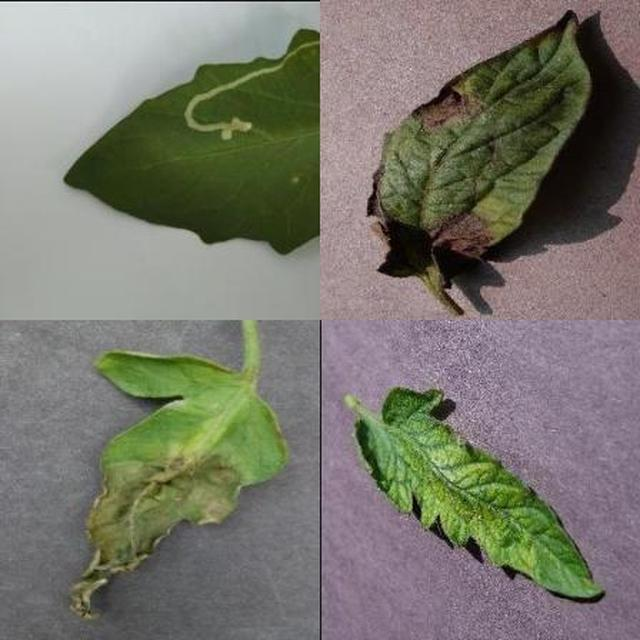Leaf Miner: (255, 204, 640, 640)
